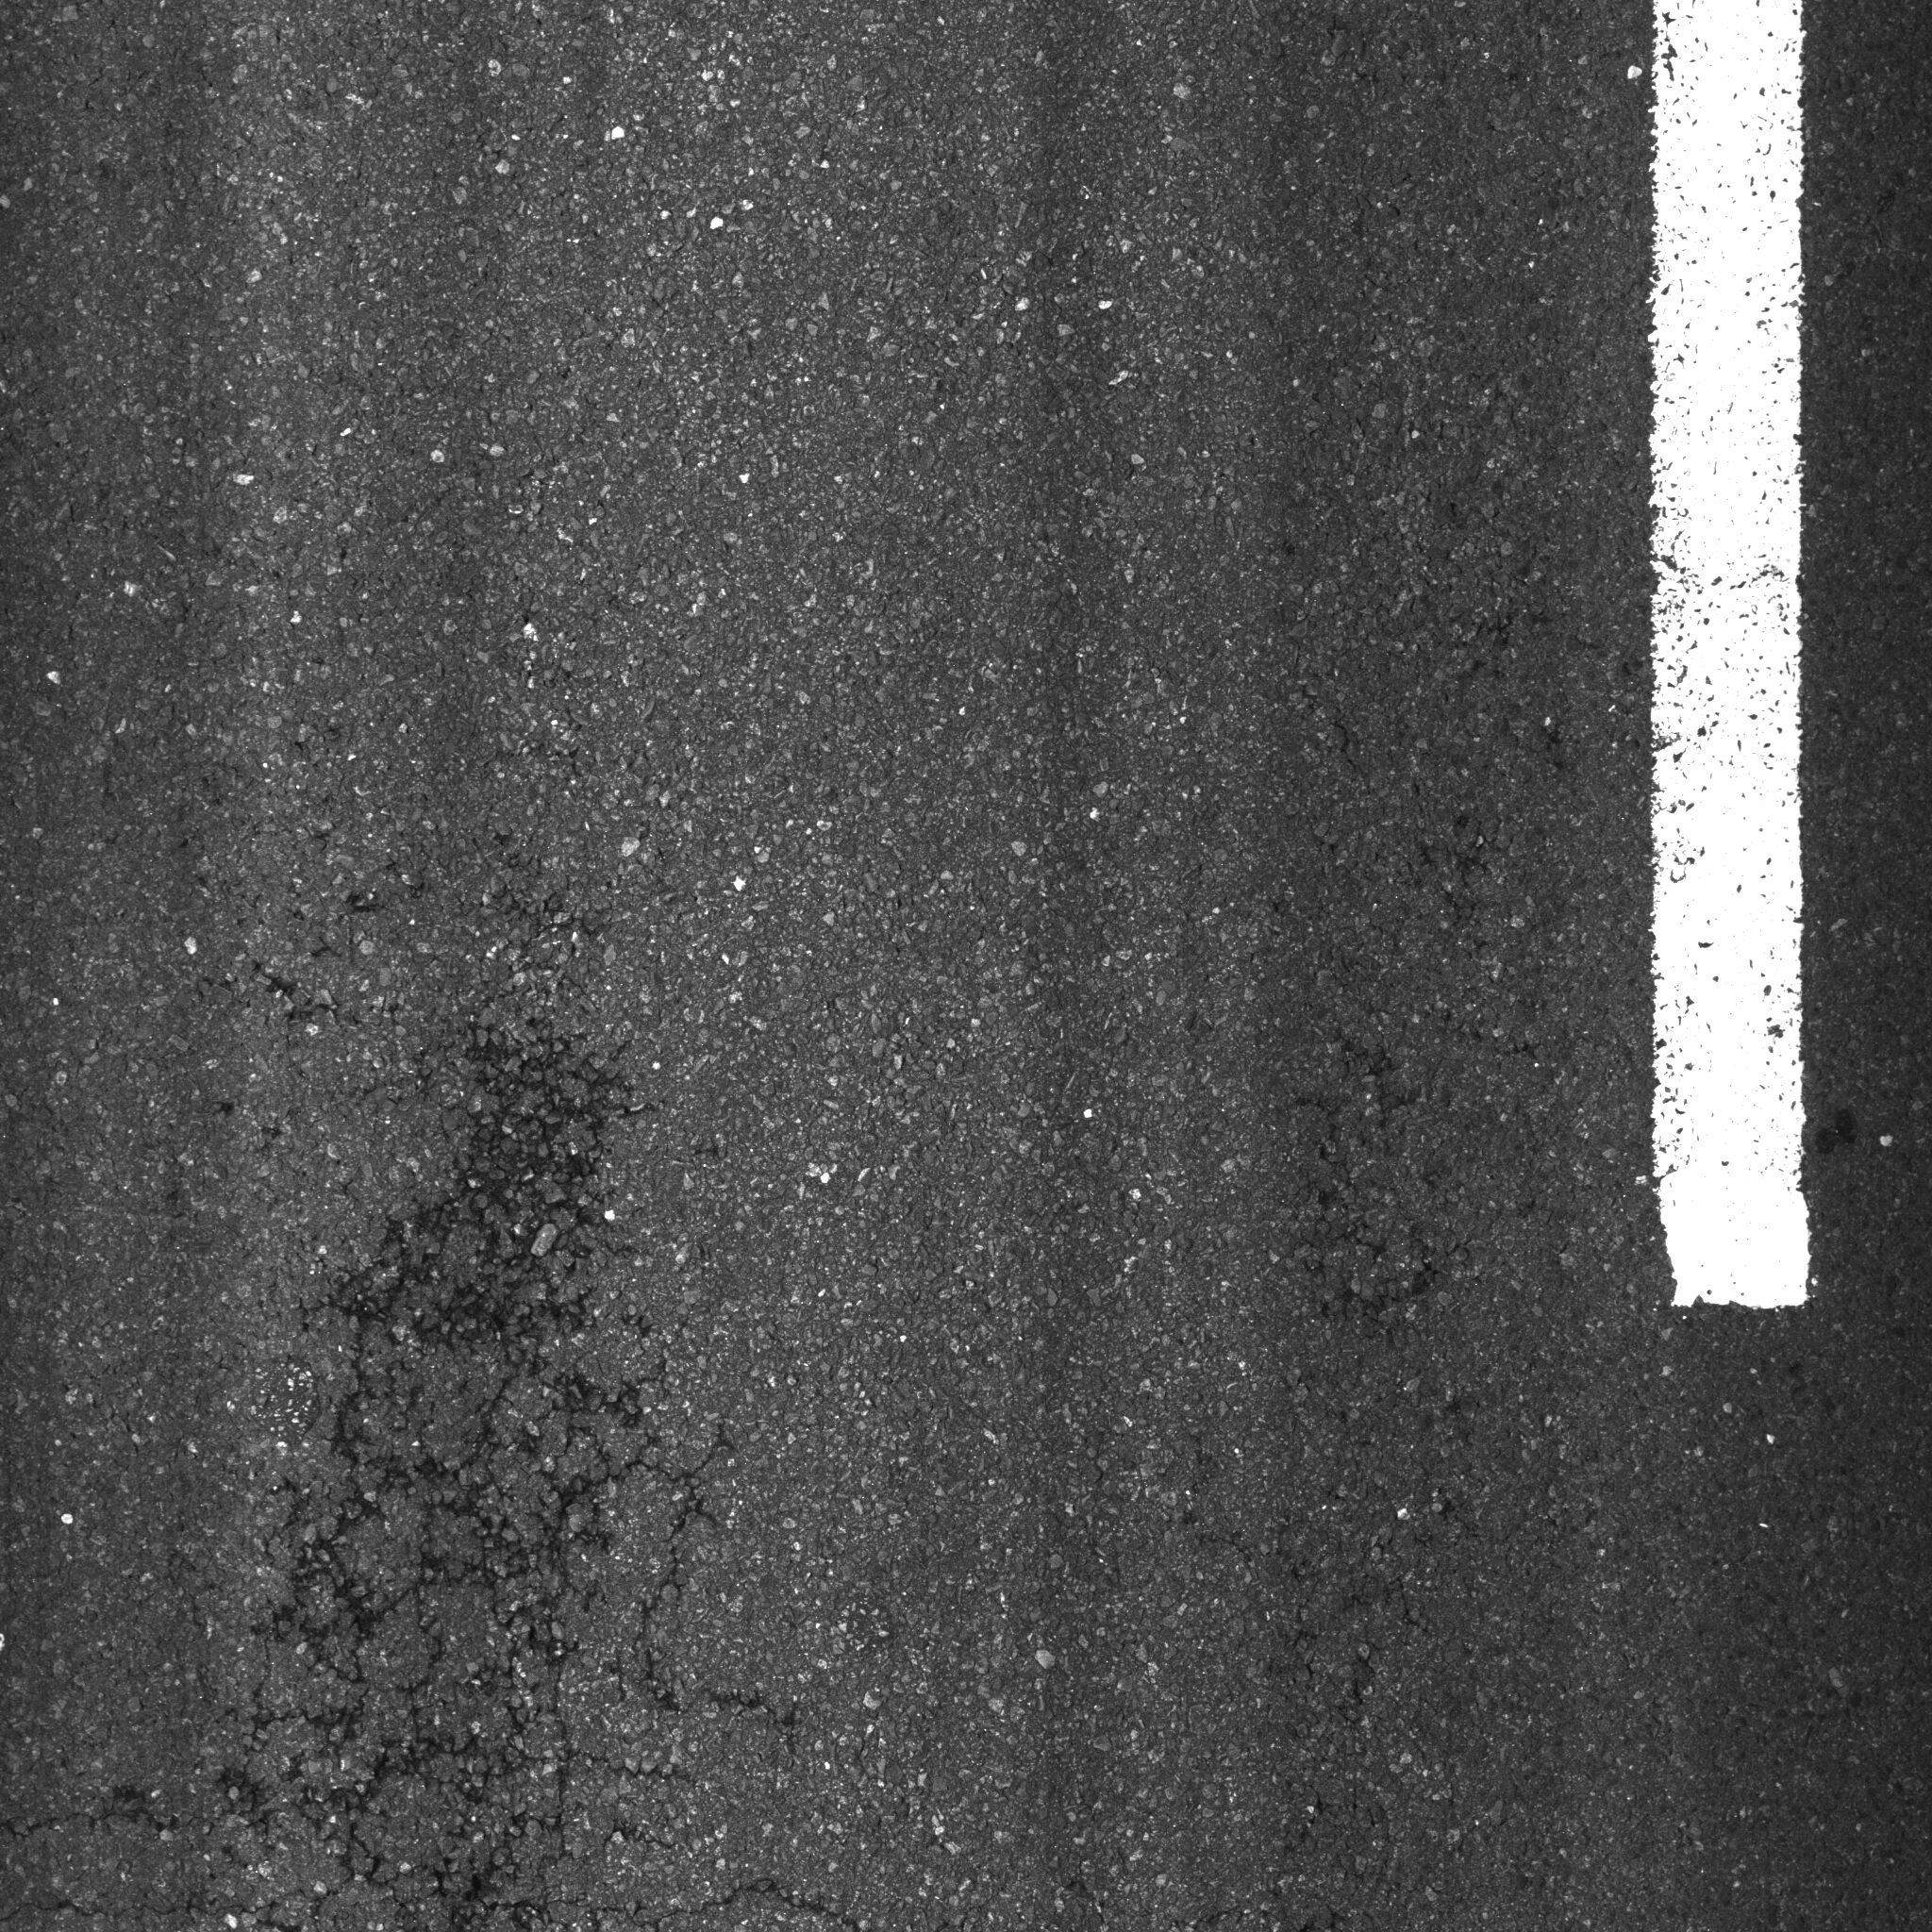alligator: (122, 913, 819, 1932)
